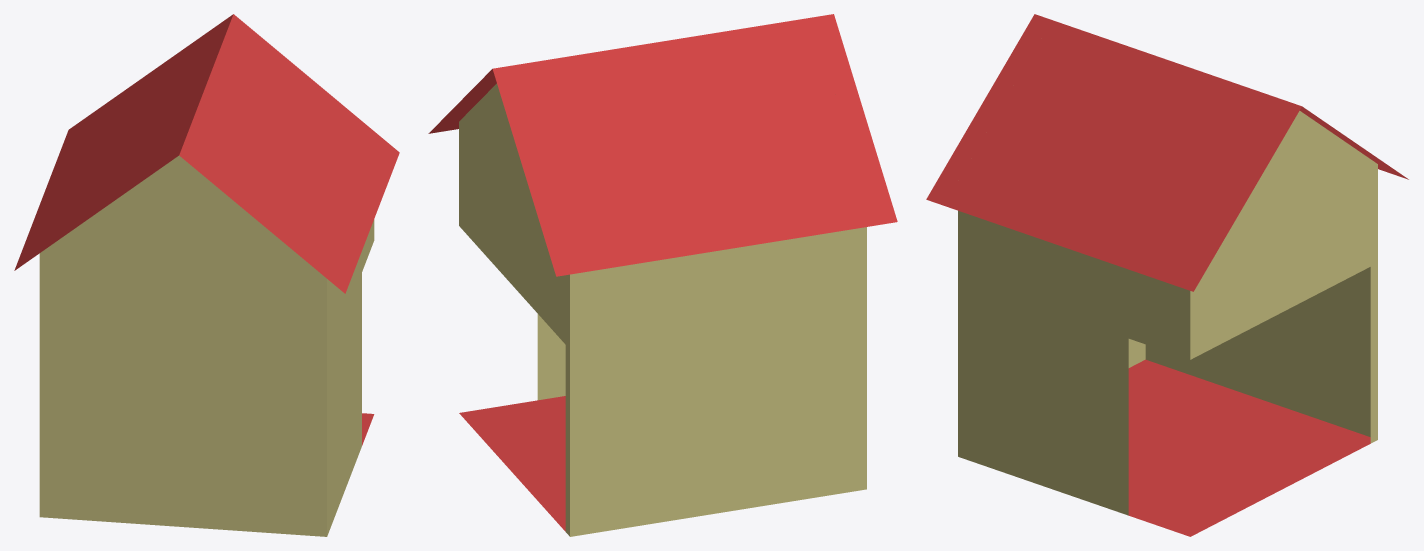
The picture shows the model from 3 angles, left to right: view 1: azimuth 30°, elevation 25°; view 2: azimuth 150°, elevation 25°; view 3: azimuth 270°, elevation 25°; orthographic projection. The views are drawn at different scales.
Bounding box in the file's own units: 16.09 × 16.1 × 14.25.
